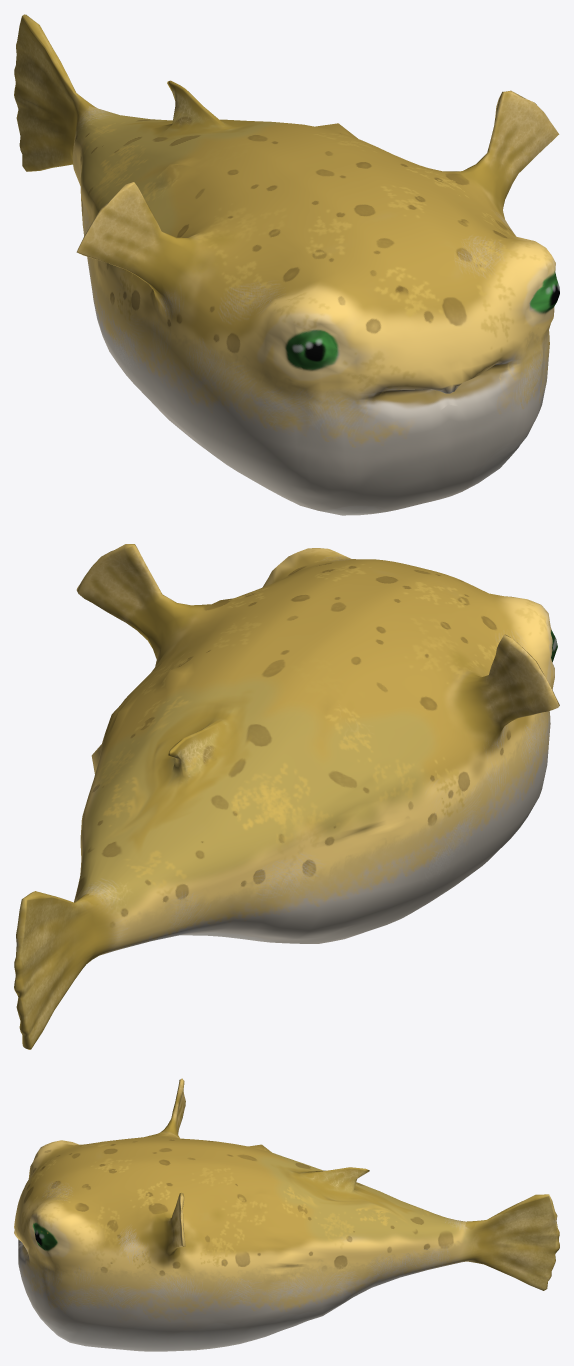
File: pezglobo (1).glb
3 views of the same model, one above another, from view 1: azimuth 30°, elevation 25°; view 2: azimuth 150°, elevation 25°; view 3: azimuth 270°, elevation 25° (orthographic). The views are drawn at different scales.
Size of the model in its own units: 7.26 by 4.54 by 11.4.
1 material, 1 textured.
